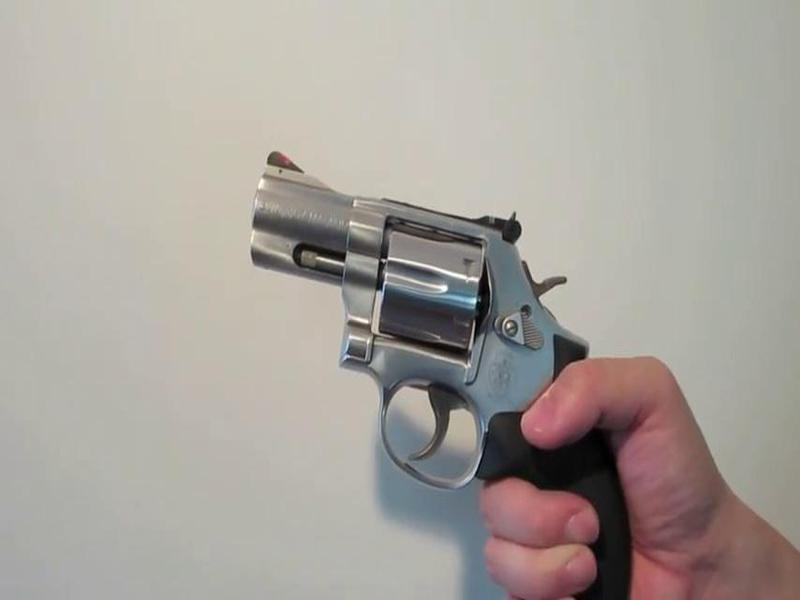Revolver: (237, 137, 644, 546)
